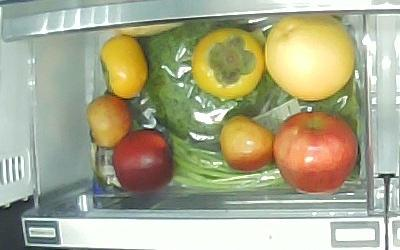apple: (273, 111, 358, 195), (112, 129, 176, 193)
grapefruit: (265, 15, 355, 101)
persimmon: (193, 28, 265, 99), (100, 35, 147, 99)
prune: (220, 115, 275, 172), (85, 96, 132, 148)
